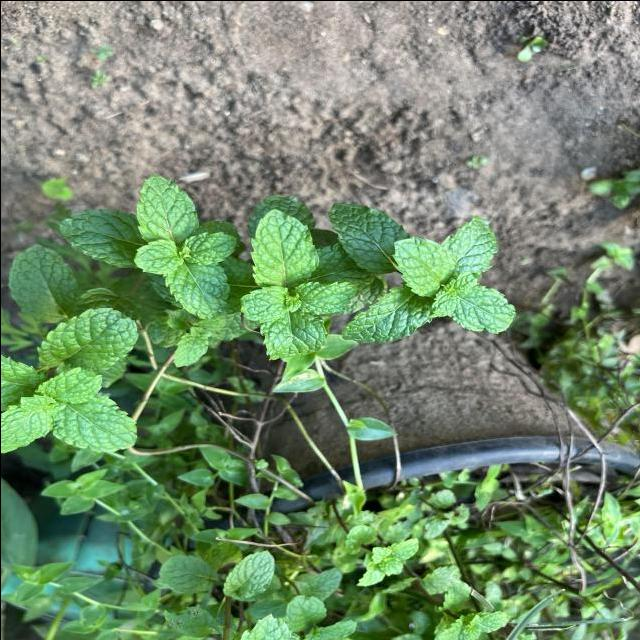Mentha spicata: (35, 306, 140, 373), (326, 200, 410, 273), (339, 282, 434, 342), (248, 207, 318, 286), (50, 394, 138, 453), (58, 208, 139, 268), (133, 172, 200, 240), (390, 234, 459, 296), (162, 263, 230, 319), (446, 284, 516, 334), (441, 215, 497, 272), (32, 365, 102, 404), (292, 279, 358, 314), (238, 284, 289, 322), (132, 236, 182, 274), (182, 230, 237, 264)
